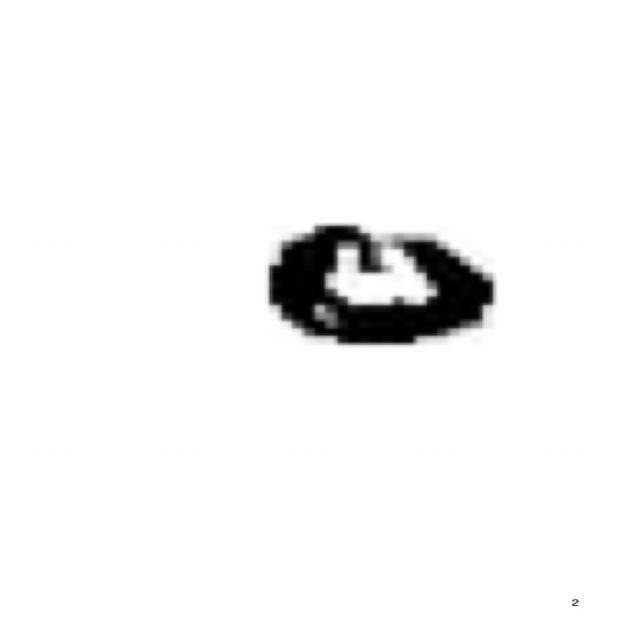0 -zero-: (250, 215, 504, 351)
